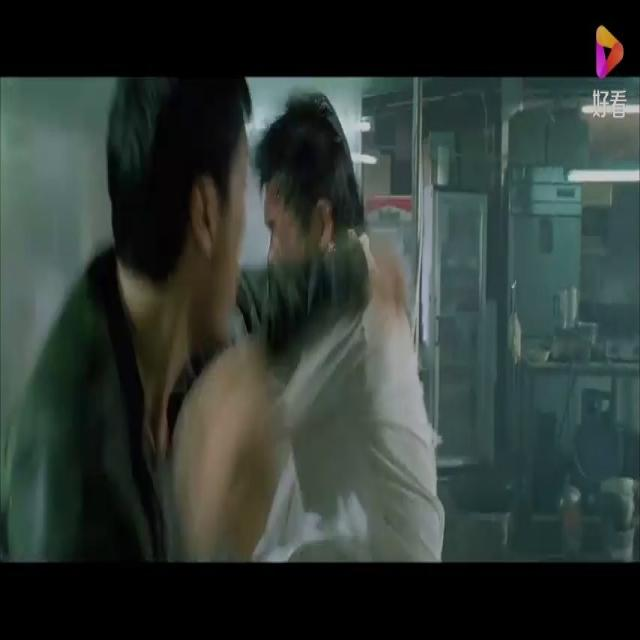fight: (3, 75, 456, 564)
